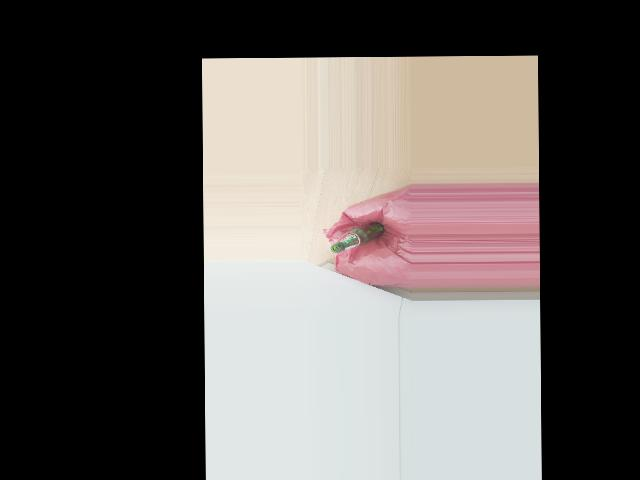beer: (330, 221, 383, 252)
